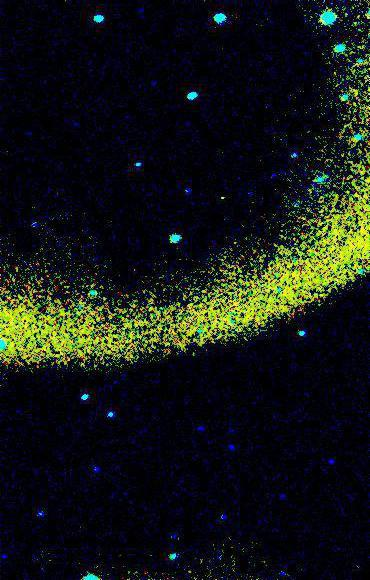star: (208, 186, 238, 216)
